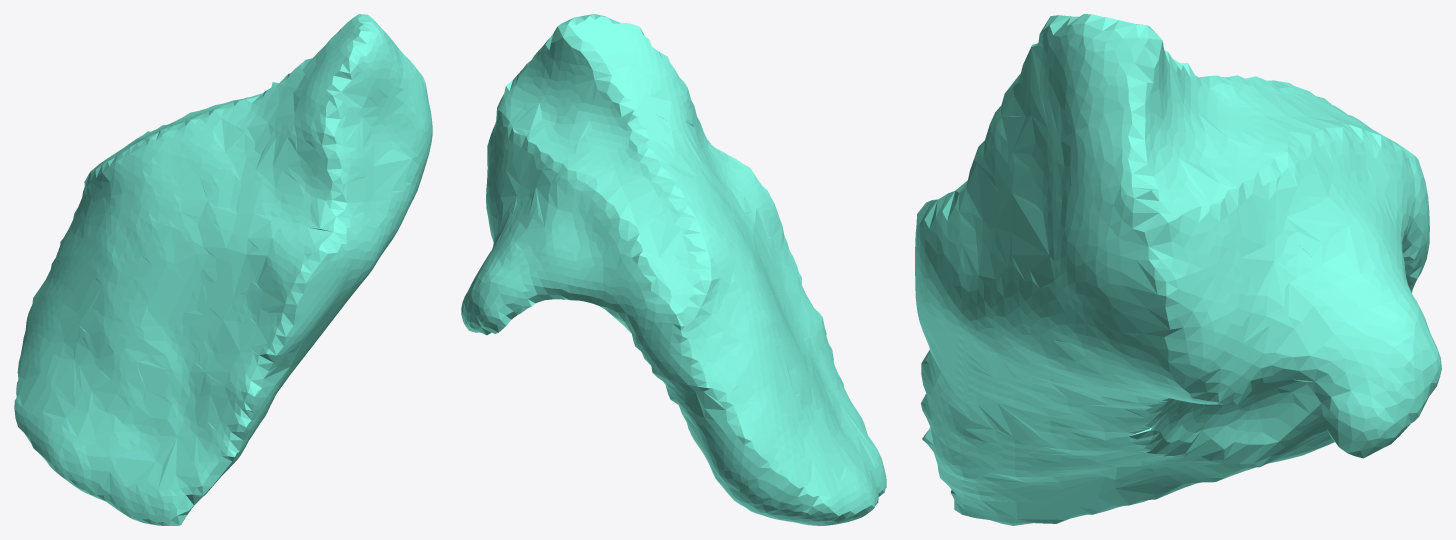
The model's file is Model_10215_LH__External_globus_pallidus_(EGP).obj.
3 renders of one model, left to right at view 1: azimuth 30°, elevation 25°; view 2: azimuth 150°, elevation 25°; view 3: azimuth 270°, elevation 25°, orthographic. The views are drawn at different scales.
Size of the model in its own units: 4 by 4.31 by 2.98.
